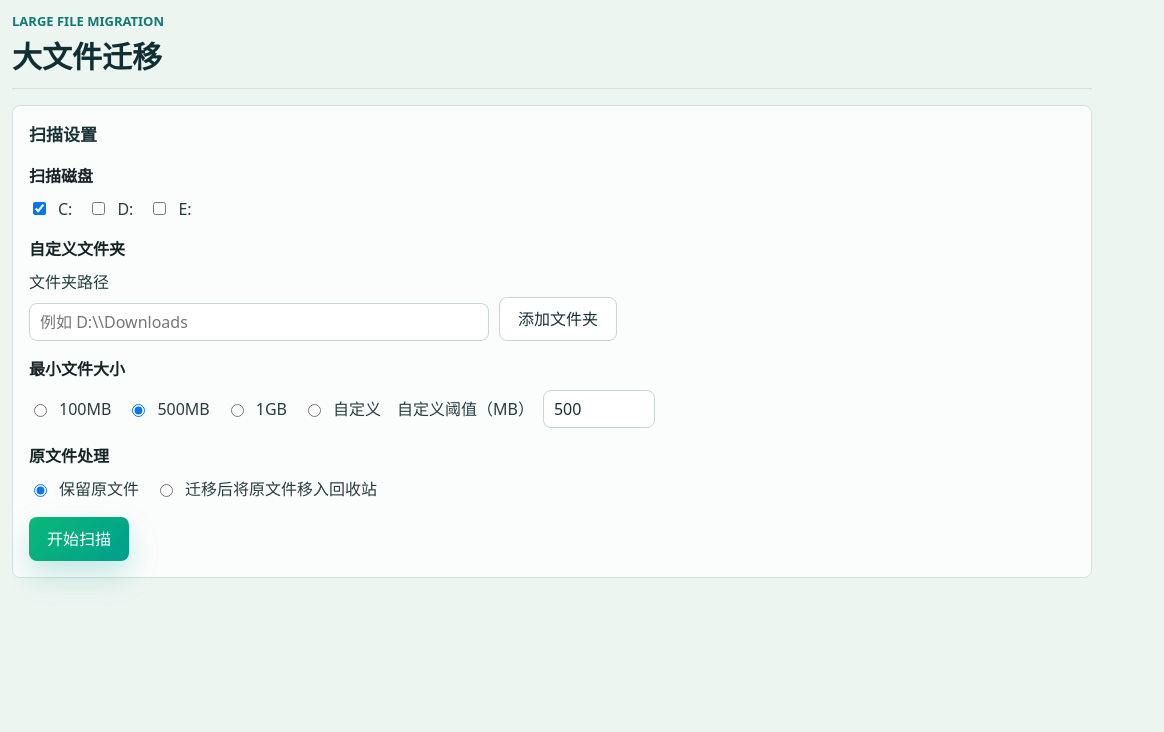
Test: LargeFileMigrationPage › shows scan progress percent and found large-file bytes
The width and height of the screenshot is (1164, 732).
What coordinates should you click on to do the following:
click the button "开始扫描"
I would click on:
 (79, 538)
Its box is [29,516,129,560].
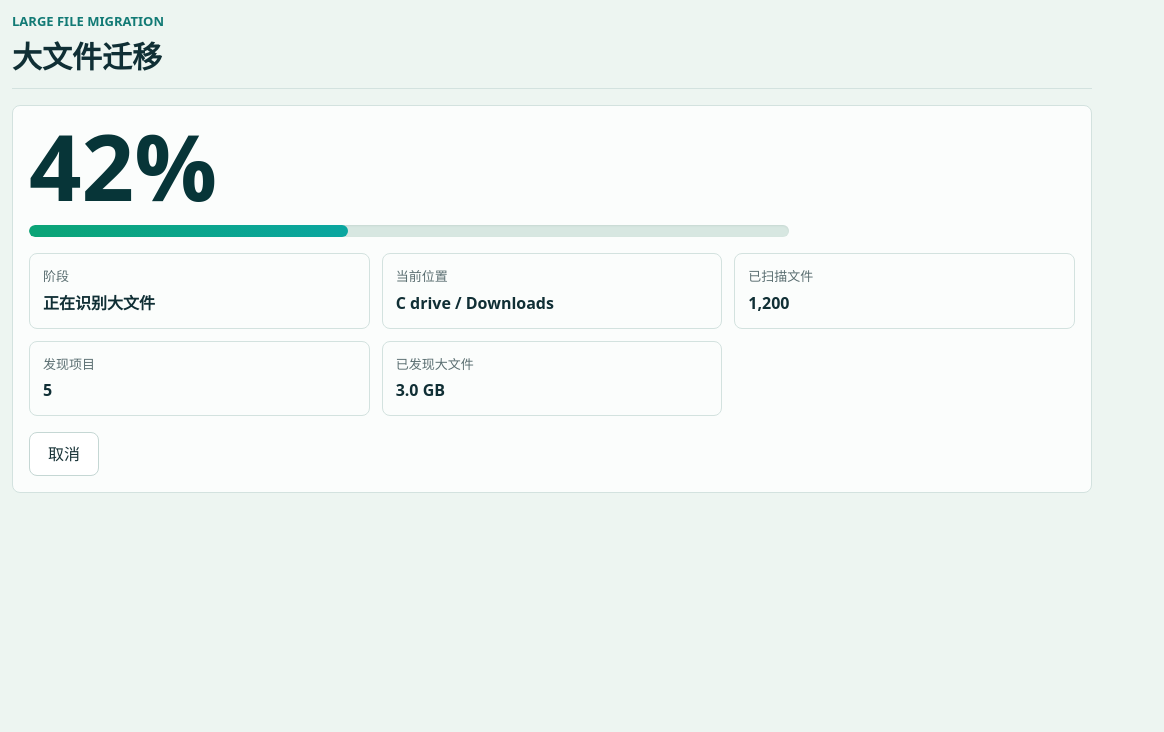
Now the text "42%" is shown, box [29,103,217,228]
Now the text "正在识别大文件" is shown, box [43,292,155,314]
Now the text "C drive / Downloads" is shown, box [396,292,554,314]
